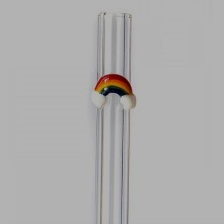drinking_straw: (86, 7, 142, 222)
